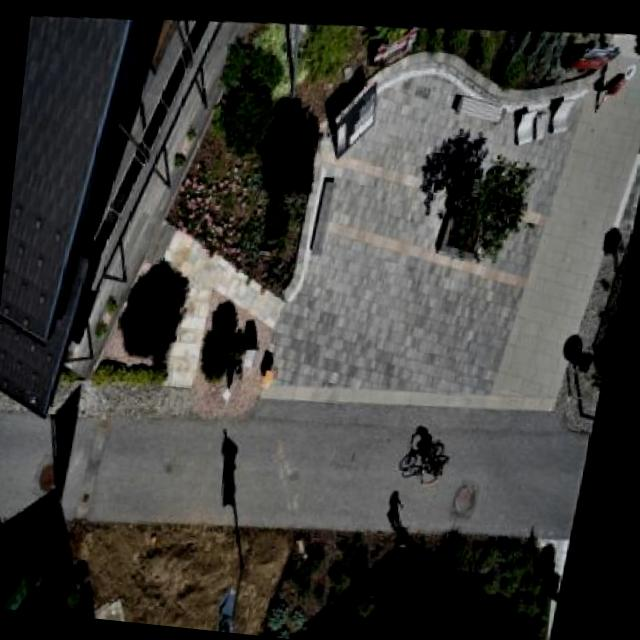Person: (585, 48, 640, 125)
